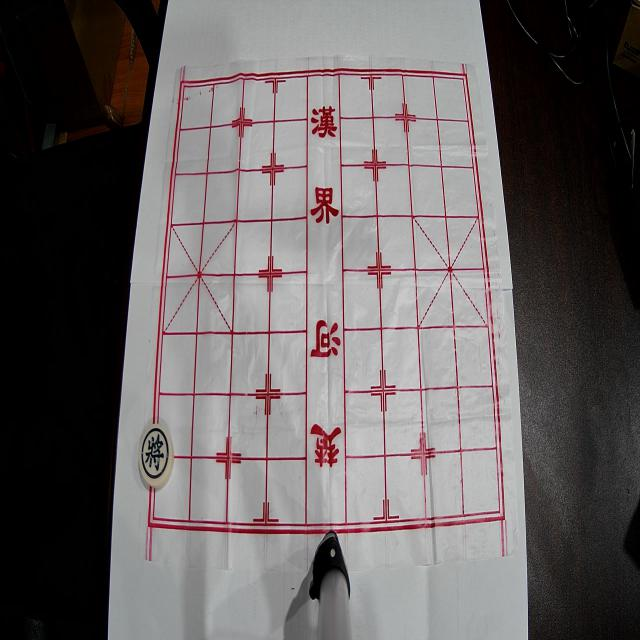black-general: (139, 424, 174, 488)
